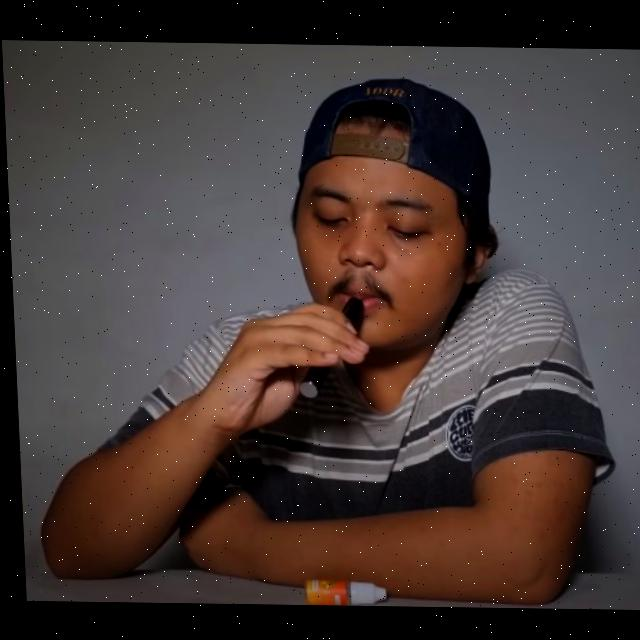vape: (292, 294, 364, 398)
